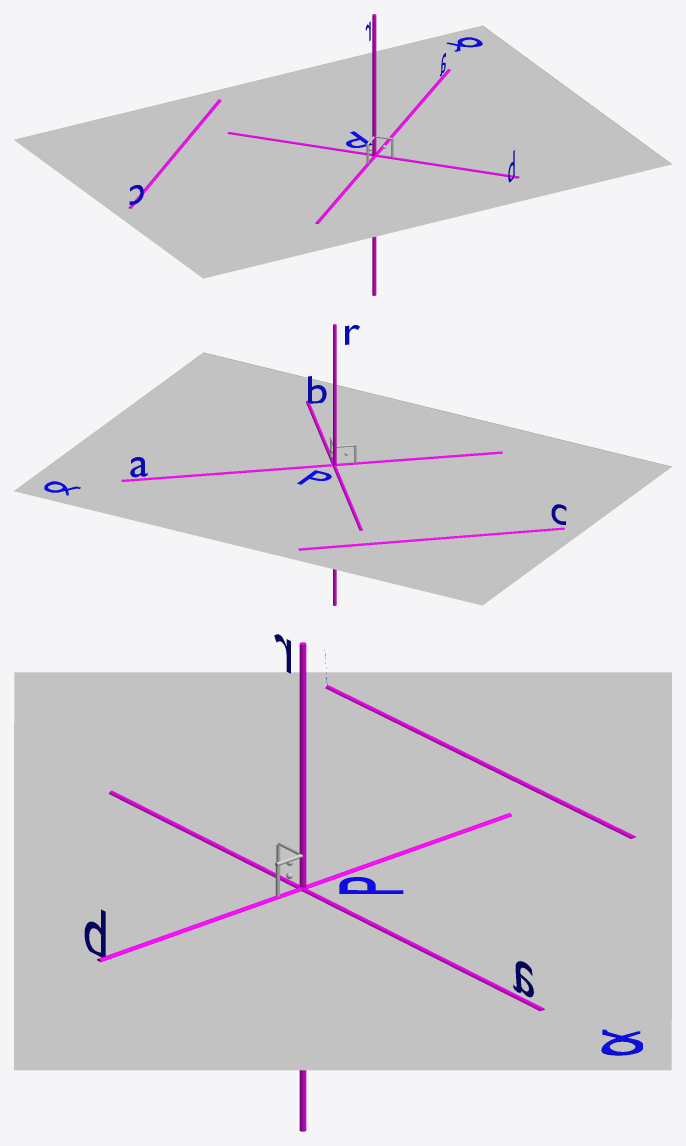
The model's file is ob2.3_reta_e_plano_perpendiculares.glb.
The picture shows the model from 3 angles, top to bottom: view 1: azimuth 30°, elevation 25°; view 2: azimuth 150°, elevation 25°; view 3: azimuth 270°, elevation 25°; orthographic projection. The views are drawn at different scales.
Parts seen in each view (by area): view 1: plano_Box, Cylinder-reta-C_Cylinder, reta_Cylinder, Cylinder-reta-A_Cylinder, reta_c0_Cylinder; view 2: plano_Box, Cylinder-reta-A_Cylinder, reta_c0_Cylinder, Cylinder-reta-C_Cylinder, reta_Cylinder; view 3: plano_Box, Cylinder-reta-A_Cylinder, Cylinder-reta-C_Cylinder, reta_Cylinder, reta_c0_Cylinder.
Boxes of the visible parts, box(x1,y1,x2,y2) form: plano_Box: box(14, 25, 671, 278); Cylinder-reta-C_Cylinder: box(372, 14, 376, 295); reta_Cylinder: box(227, 132, 519, 178); Cylinder-reta-A_Cylinder: box(315, 69, 450, 223); reta_c0_Cylinder: box(128, 99, 221, 208); plano_Box: box(14, 352, 671, 605); Cylinder-reta-A_Cylinder: box(121, 451, 502, 481); reta_c0_Cylinder: box(298, 527, 564, 550); Cylinder-reta-C_Cylinder: box(333, 324, 336, 605); reta_Cylinder: box(306, 400, 362, 530); plano_Box: box(14, 672, 671, 1070); Cylinder-reta-A_Cylinder: box(109, 790, 544, 1011); Cylinder-reta-C_Cylinder: box(299, 642, 306, 1131); reta_Cylinder: box(97, 813, 511, 962); reta_c0_Cylinder: box(325, 685, 635, 838).
Size of the model in its own units: 1.4 by 0.8 by 0.9803.
